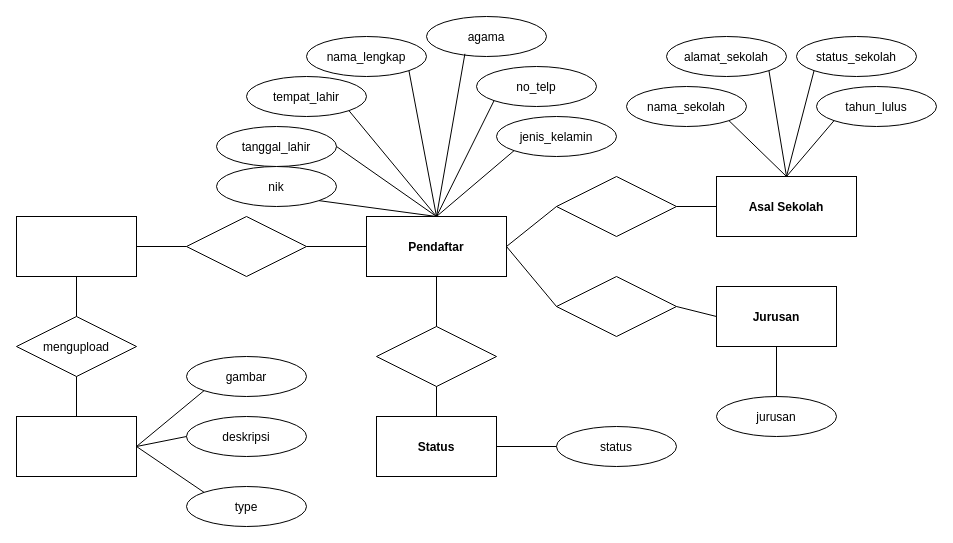
Some shapes in this 953 by 543 pixel diagram are drawn without their labels. The box of each missing label's shape, as (x1, y1, x2, y2) in pixels:
Admin: (16, 216, 136, 276)
berasal dari: (556, 176, 676, 236)
memilih: (556, 276, 676, 336)
memiliki: (376, 326, 496, 386)
mengelola: (186, 216, 306, 276)
Uploads: (16, 416, 136, 476)
